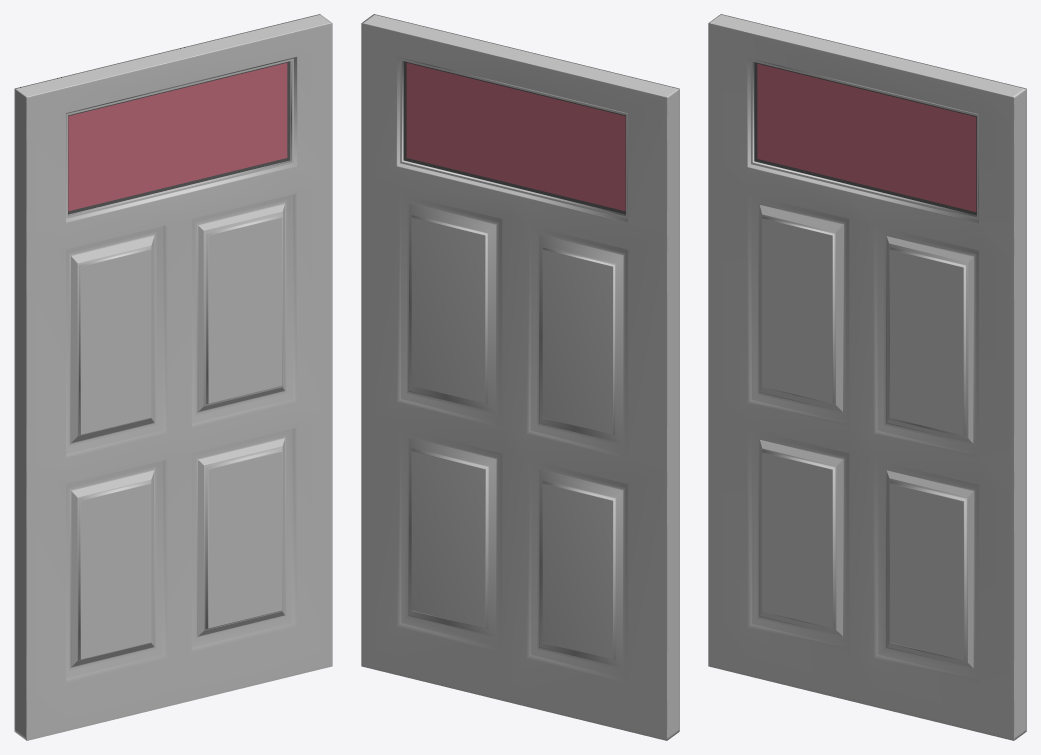
Rendered from DoorQuarterGlassSlab.fbx.
3 renders of one model, left to right at view 1: azimuth 30°, elevation 25°; view 2: azimuth 150°, elevation 25°; view 3: azimuth 330°, elevation 25°, orthographic.
Visible parts, largest first — view 1: Door_LOD0; view 2: Door_LOD0; view 3: Door_LOD0.
Boxes of the visible parts, x1=… form: Door_LOD0: x1=14, y1=14, x2=332, y2=740; Door_LOD0: x1=361, y1=14, x2=679, y2=740; Door_LOD0: x1=708, y1=14, x2=1026, y2=740.
Size of what is drawn, in the model's own units: 206 by 414 by 14.99.
